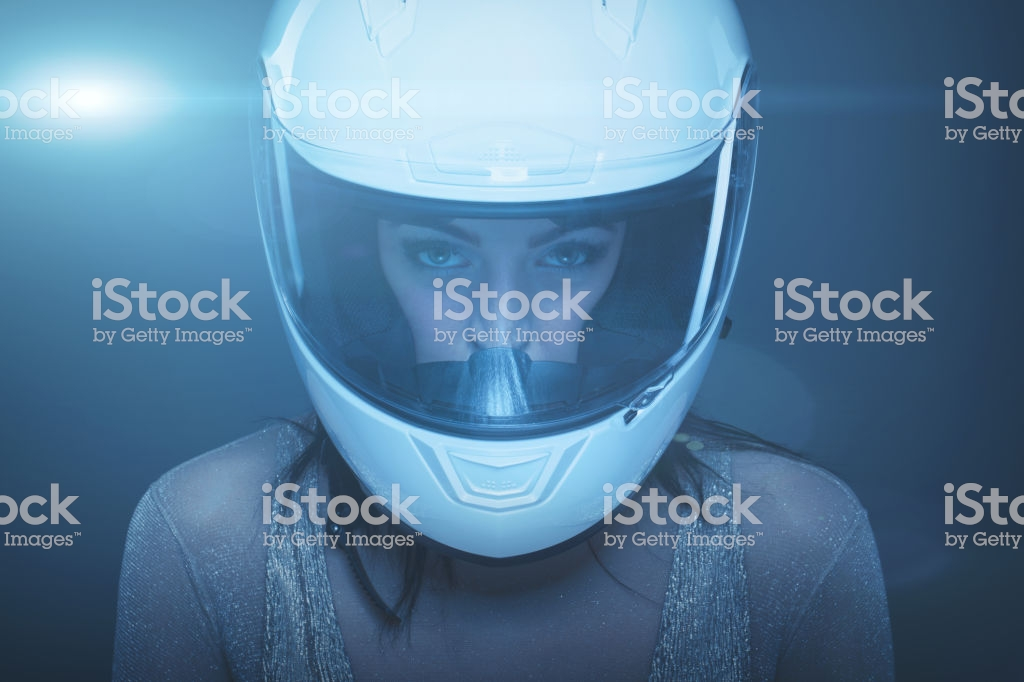helmet: (236, 7, 732, 500)
